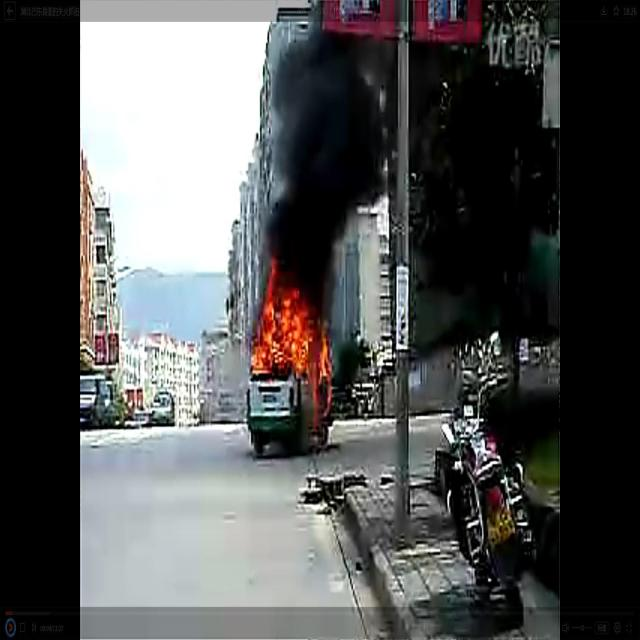fire: (252, 265, 334, 388)
smoke: (270, 34, 381, 214), (269, 193, 336, 286)
